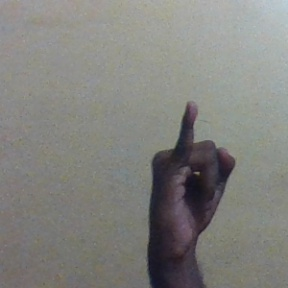I: (148, 99, 238, 251)
